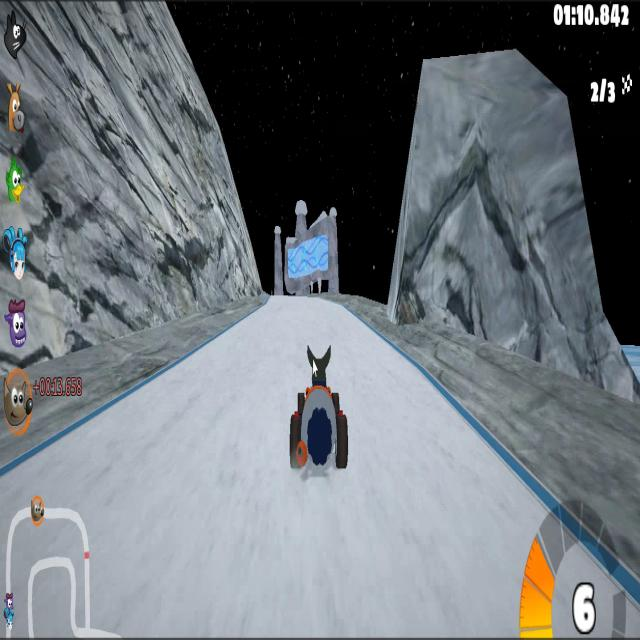player_kart: (286, 345, 358, 482)
track: (0, 480, 551, 627), (127, 394, 284, 477), (360, 349, 419, 484), (419, 404, 471, 487), (225, 325, 283, 399), (73, 416, 132, 478), (172, 351, 232, 391), (269, 292, 334, 326), (286, 314, 360, 340), (472, 435, 505, 477), (39, 442, 74, 480), (247, 309, 269, 326), (216, 335, 223, 346)
